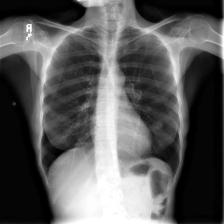normal: (37, 24, 184, 186)
